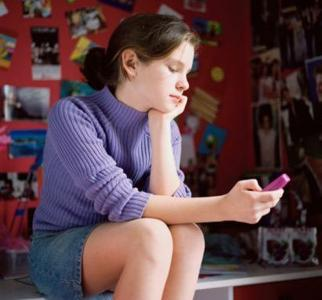person: (28, 11, 284, 300)
